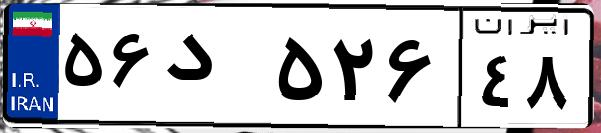2: (330, 28, 385, 110)
4: (475, 38, 525, 113)
5: (270, 28, 330, 110), (57, 26, 110, 100)
6: (385, 28, 445, 110), (110, 28, 158, 98)
8: (525, 38, 570, 115)
د: (158, 20, 270, 120)
